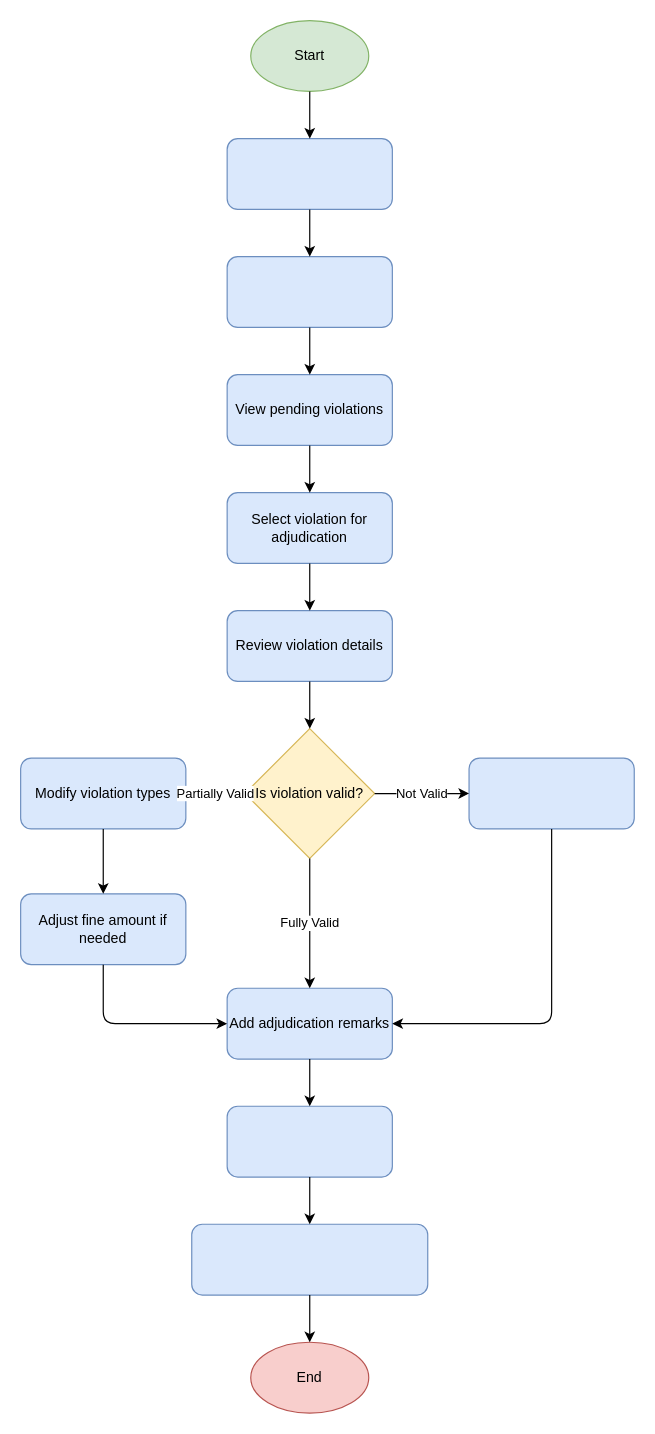
Some shapes in this 655 by 1434 pixel diagram are drawn without their labels. The centre of each missing label's shape, as x and y in pixels:
Dismiss violation: the point at 551,793
Navigate to Adjudication List: the point at 309,291
Submit adjudication decision: the point at 309,1141
Supervisor/Adjudicator logs in: the point at 309,173
System updates violation status to ADJUDICATED: the point at 309,1259
